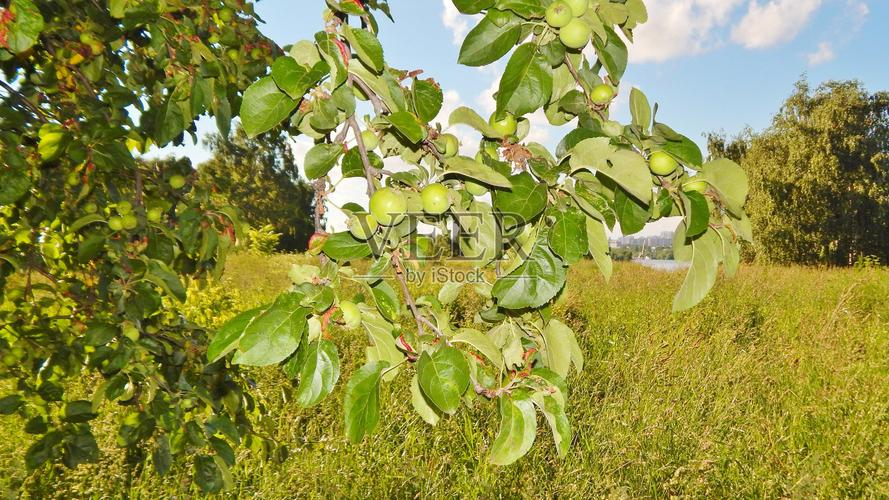unripe: (647, 142, 685, 184), (369, 186, 408, 224), (560, 15, 593, 48), (420, 181, 452, 214), (489, 108, 522, 139), (542, 1, 575, 31), (587, 85, 616, 107)
